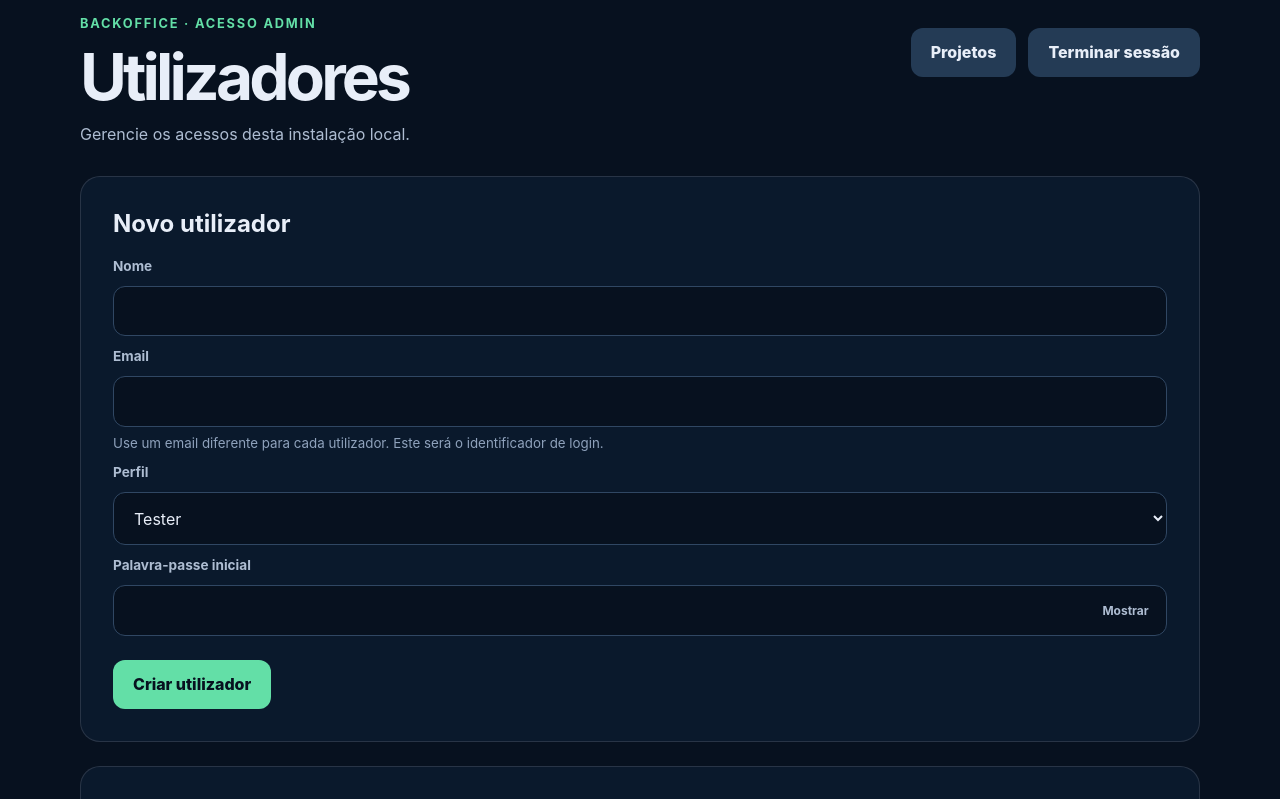
it: Users › shows a duplicate email error next to the creation form
The image size is (1280, 799).
Type "Outro Admin" into the field labelled "Nome" at (640, 311), box [113,286,1167,336]
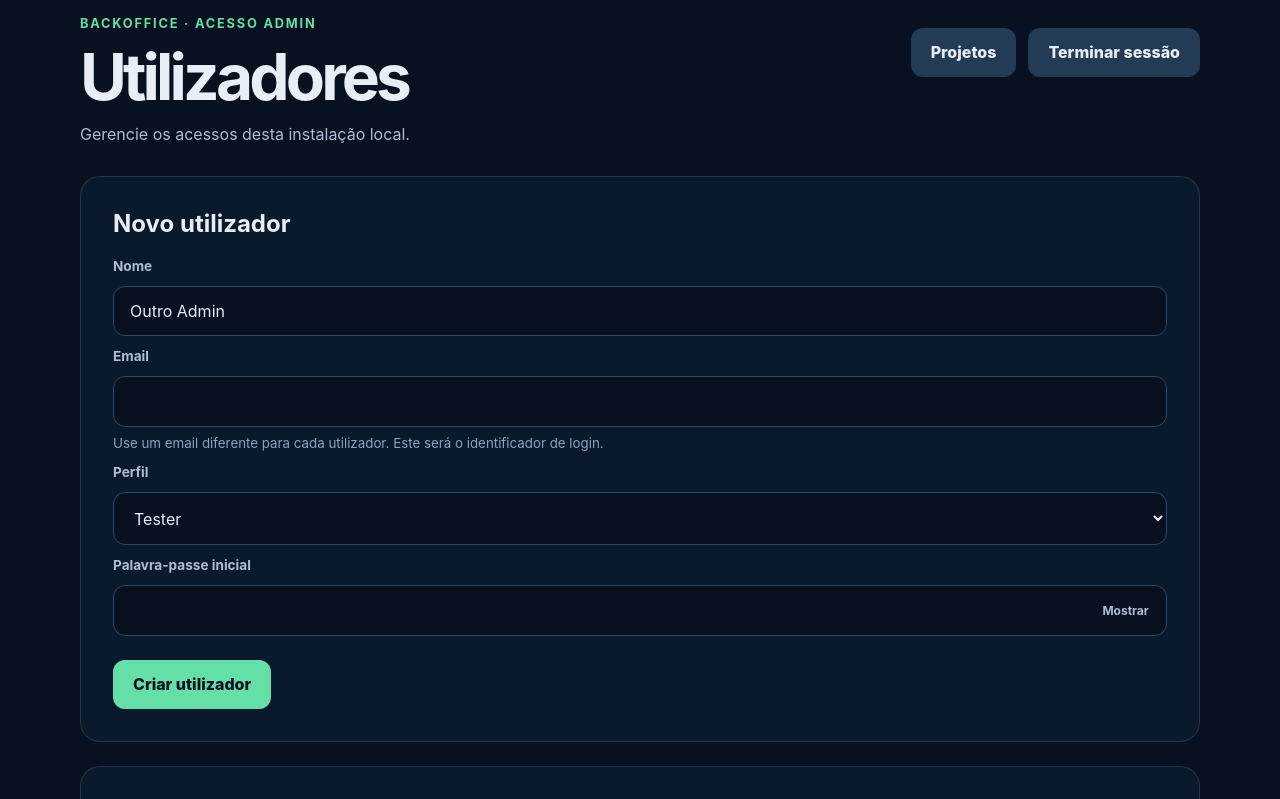
Type "admin@example.com" into the field labelled "Email" at (640, 402), box [113,376,1167,427]
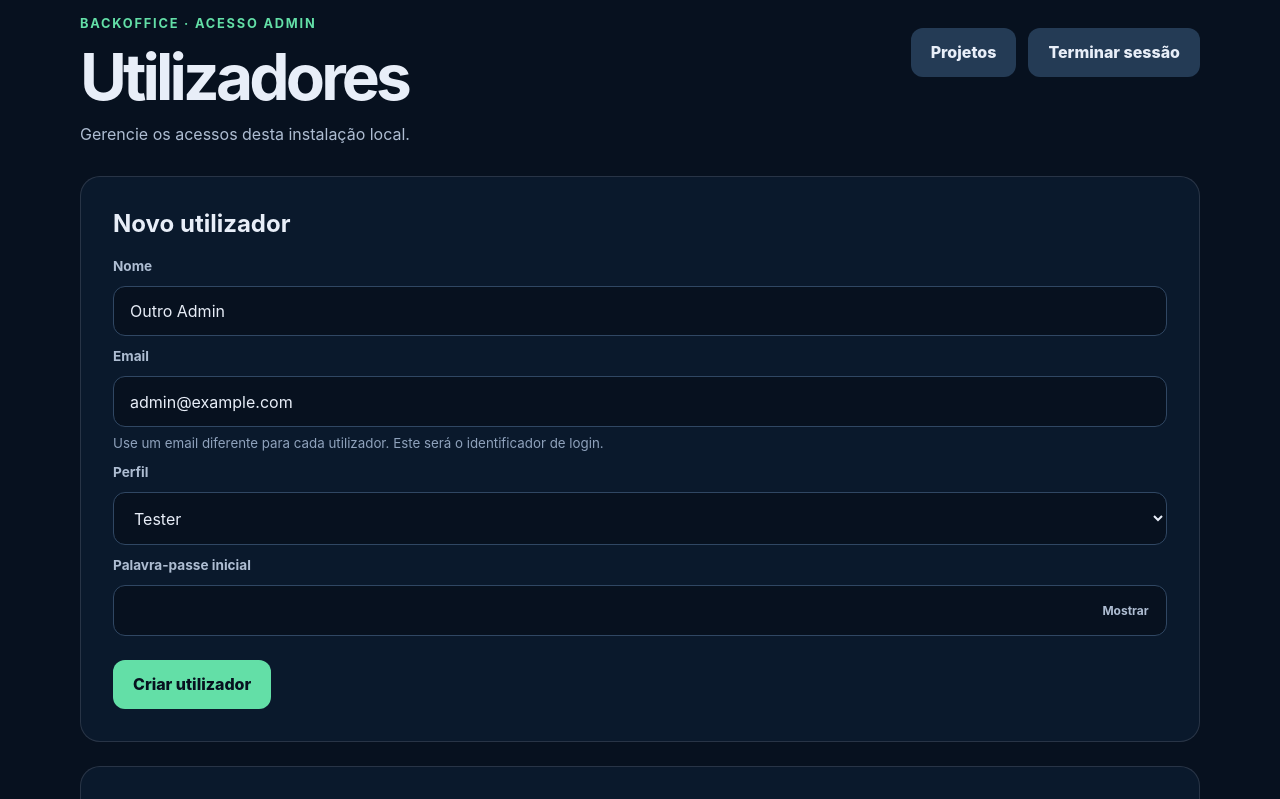
Type "another-password-123" into the password field labelled "Palavra-passe inicial" at (640, 610), box [113,585,1167,636]
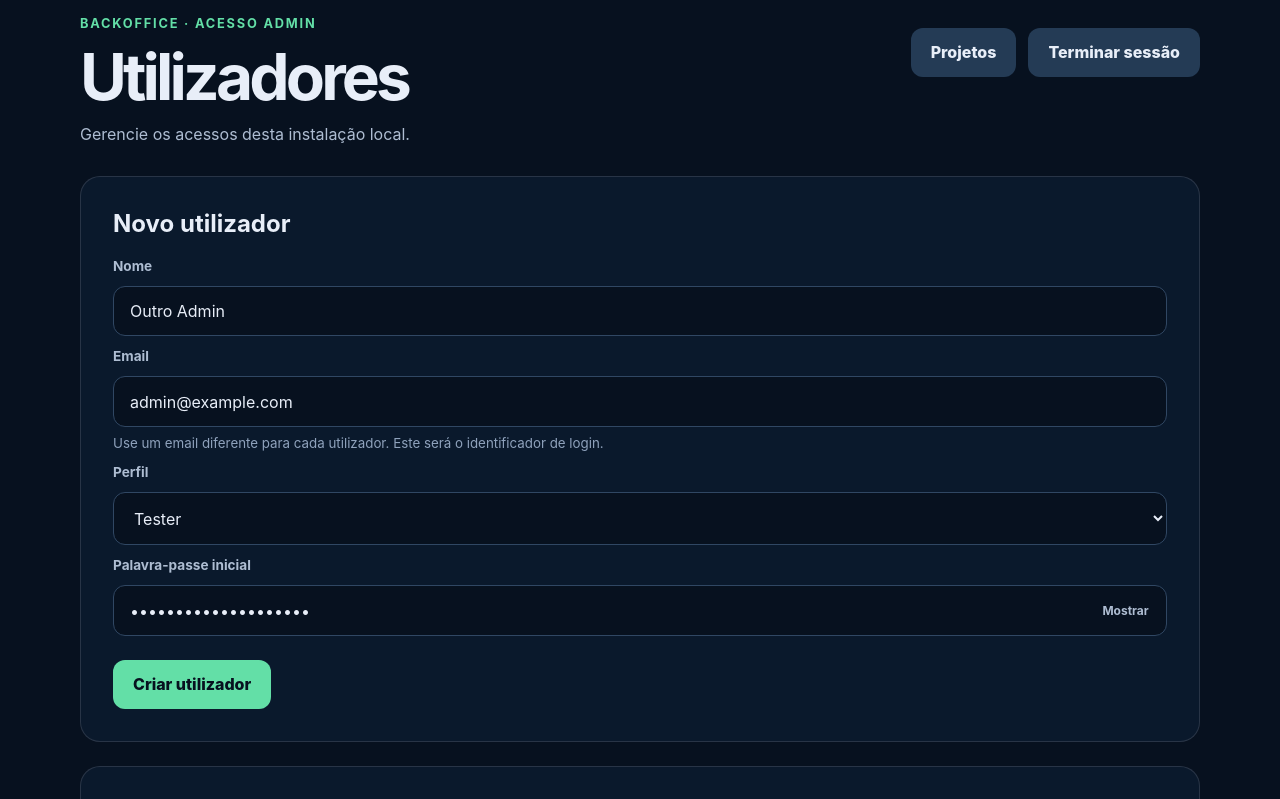
Click the button "Criar utilizador" at (192, 684), box [113,660,271,709]
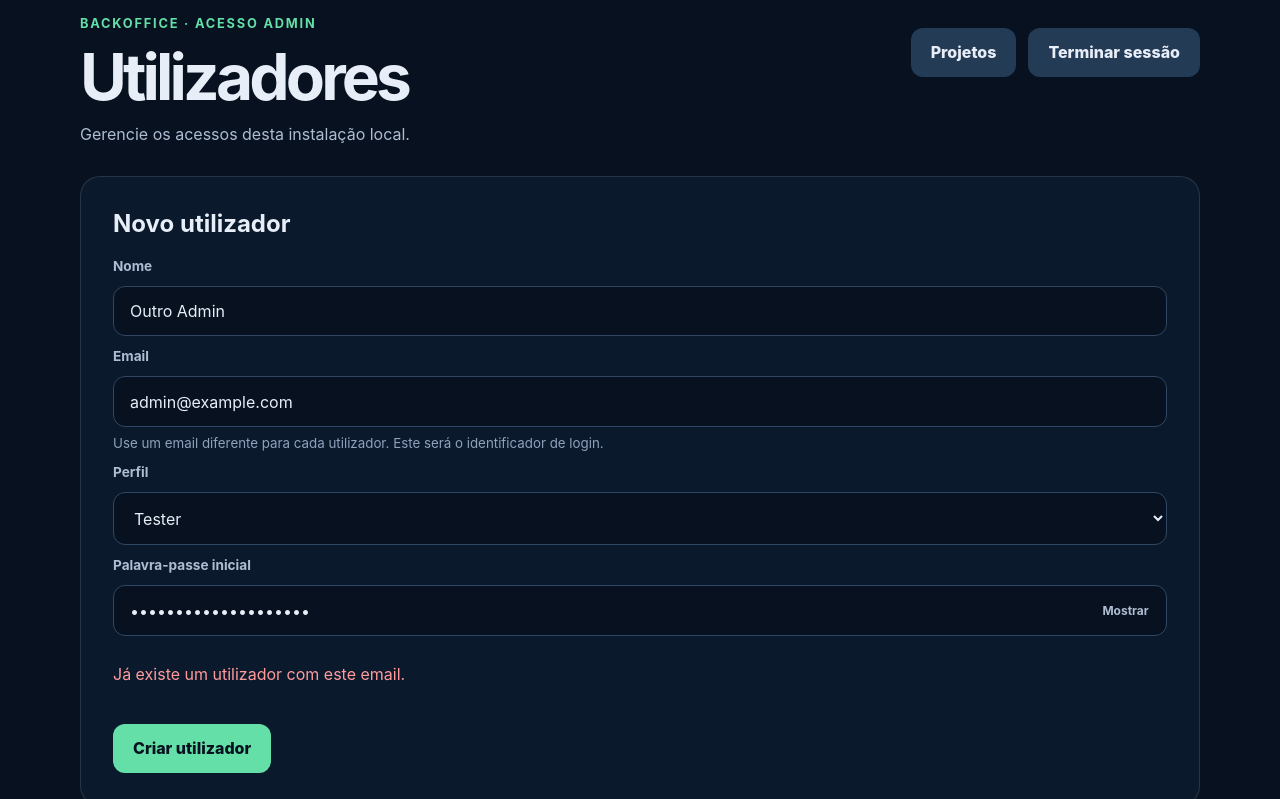
Result: the message reads "Já existe um utilizador com este email." at [113,664,405,684]
